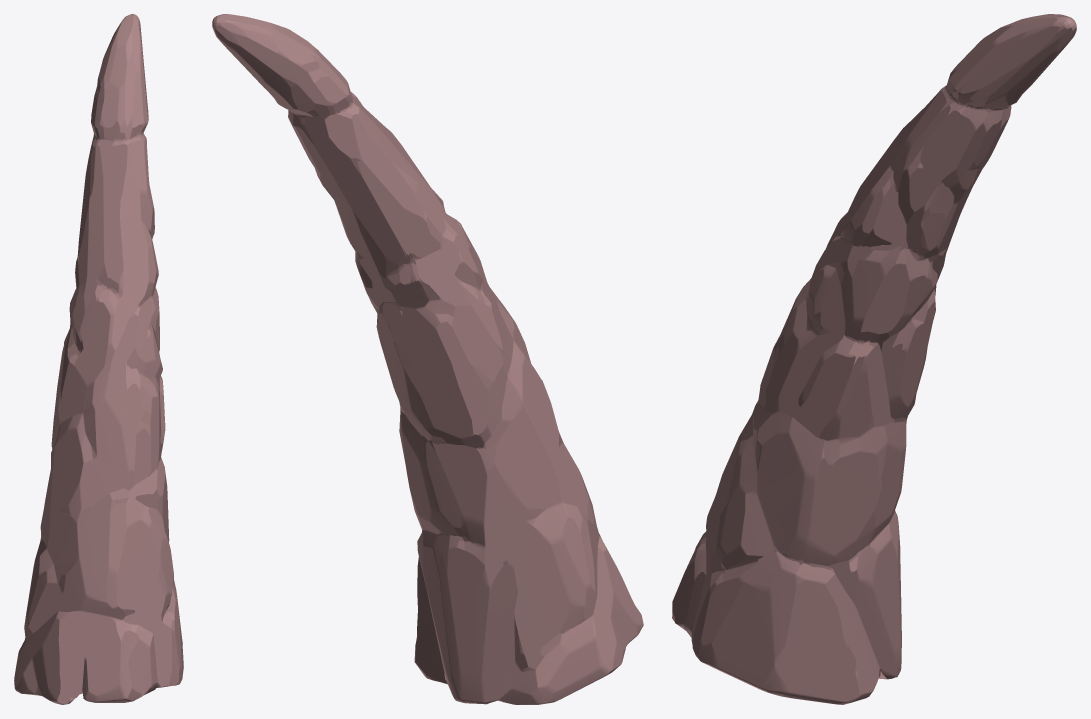
The model's file is sea.fbx_Cone__5_LODs.fbx.
The picture shows the model from 3 angles, left to right: view 1: azimuth 30°, elevation 25°; view 2: azimuth 150°, elevation 25°; view 3: azimuth 270°, elevation 25°; orthographic projection. The views are drawn at different scales.
Parts seen in each view (by area): view 1: Cone (5)_LOD0; view 2: Cone (5)_LOD0; view 3: Cone (5)_LOD0.
Part boxes in pixels (x1,y1,x2,y2): Cone (5)_LOD0: (14,14,183,704); Cone (5)_LOD0: (212,14,643,704); Cone (5)_LOD0: (672,14,1076,704).
Size of what is drawn, in the model's own units: 3076 by 7532 by 3732.
